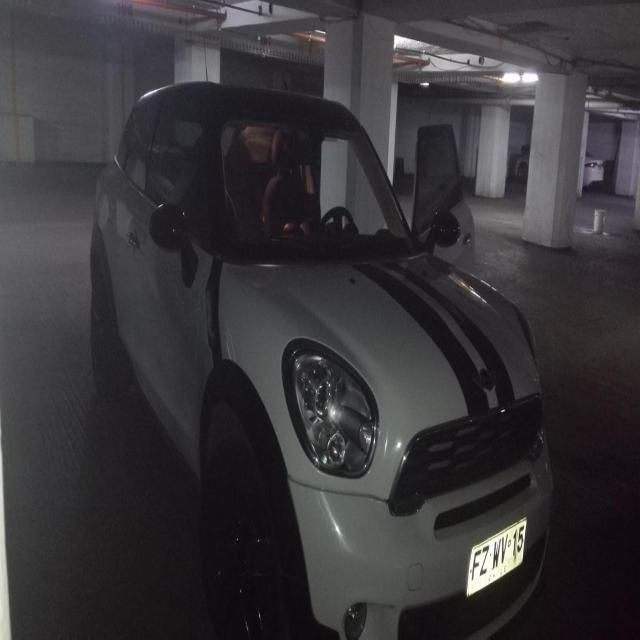patente: (465, 515, 527, 598)
